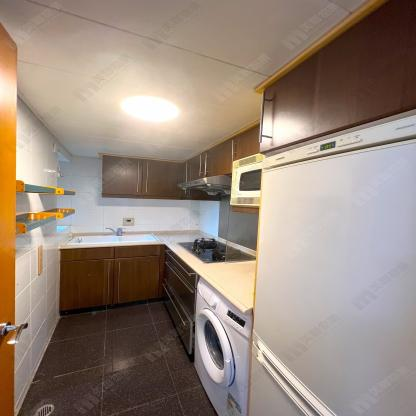Cupboard: (259, 0, 416, 155), (59, 246, 198, 362), (101, 117, 260, 200)
Exhaust Hood: (177, 174, 232, 196)
Faucet: (104, 226, 127, 237)
Fridge: (246, 113, 416, 416)
Microwave: (230, 152, 266, 212)
Sink: (66, 233, 160, 244)
Stove: (177, 238, 256, 264)
Washing Machine: (192, 277, 252, 416)
